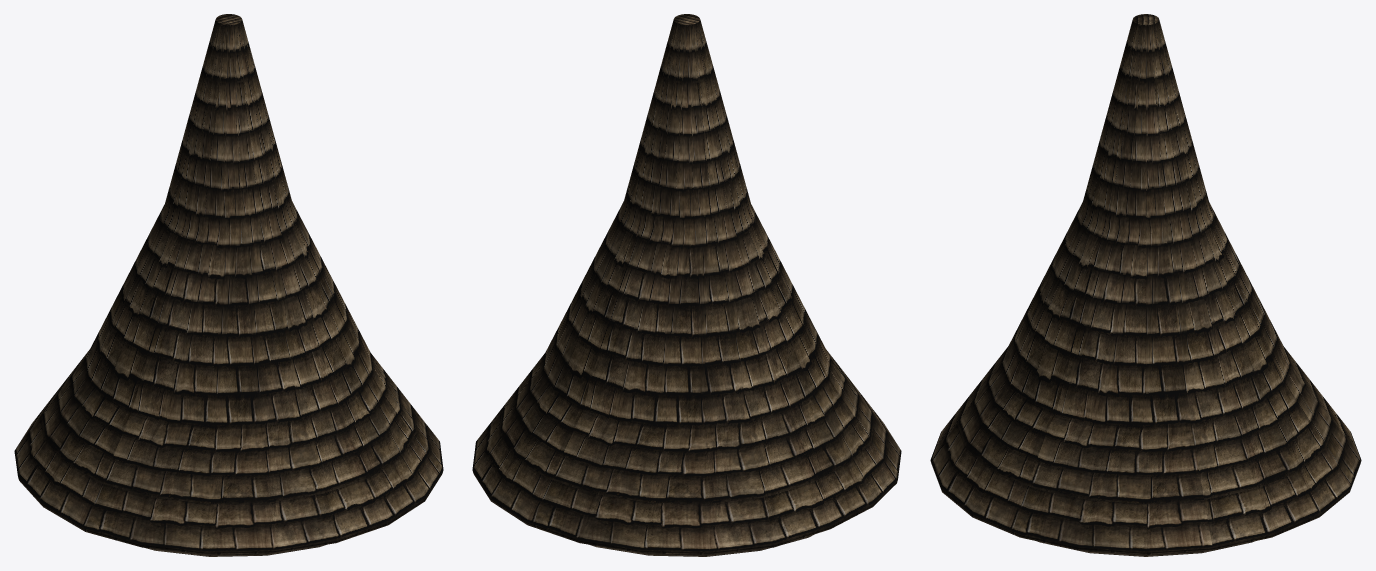
The model's file is Roof_Round_03a.fbx.
3 views of the same model, side by side, from view 1: azimuth 30°, elevation 25°; view 2: azimuth 150°, elevation 25°; view 3: azimuth 270°, elevation 25° (orthographic).
Parts seen in each view (by area): view 1: Roof_Round_03a; view 2: Roof_Round_03a; view 3: Roof_Round_03a.
Part boxes in pixels (x1,y1,x2,y2): Roof_Round_03a: [14, 14, 443, 556]; Roof_Round_03a: [472, 14, 901, 556]; Roof_Round_03a: [930, 14, 1361, 556].
Size of the model in its own units: 8.19 by 9.65 by 8.19.
